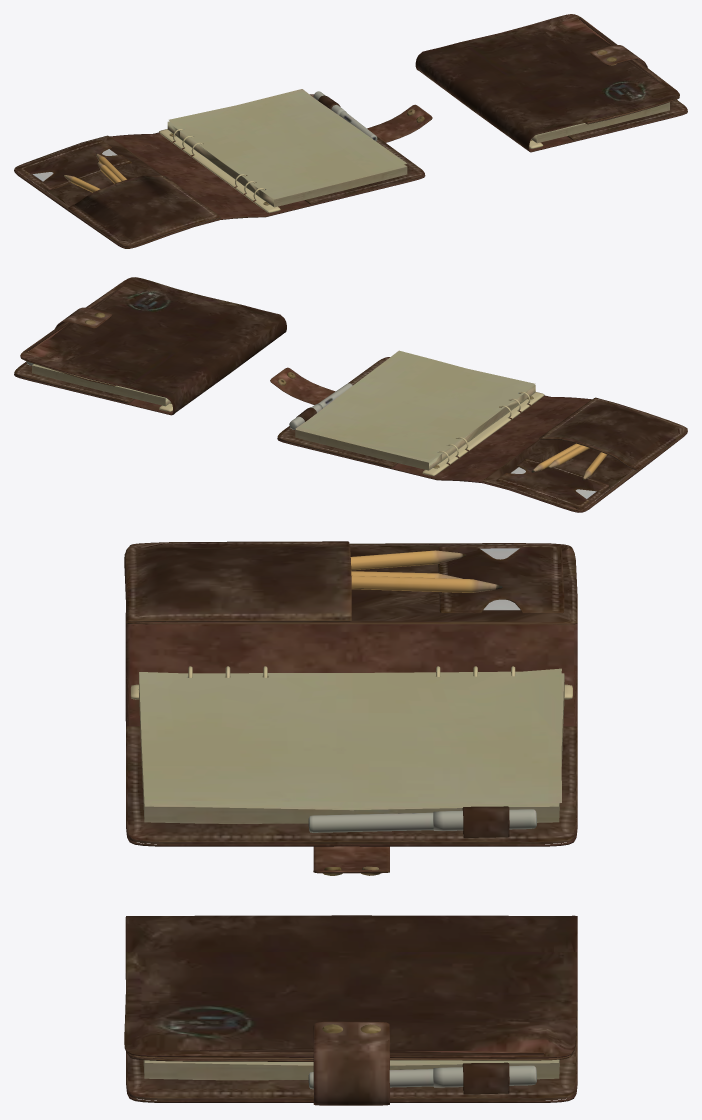
The model's file is binder-notebook.glb.
The picture shows the model from 3 angles, top to bottom: view 1: azimuth 30°, elevation 25°; view 2: azimuth 150°, elevation 25°; view 3: azimuth 270°, elevation 25°; orthographic projection. The views are drawn at different scales.
Parts seen in each view (by area): view 1: binder_notebook; view 2: binder_notebook; view 3: binder_notebook.
Boxes of the visible parts, <box> form: binder_notebook: <box>14,14,687,248</box>; binder_notebook: <box>14,277,687,512</box>; binder_notebook: <box>124,541,577,1105</box>.
Bounding box in the file's own units: 0.584 × 0.0252 × 0.1999.
1 material, 1 textured.
